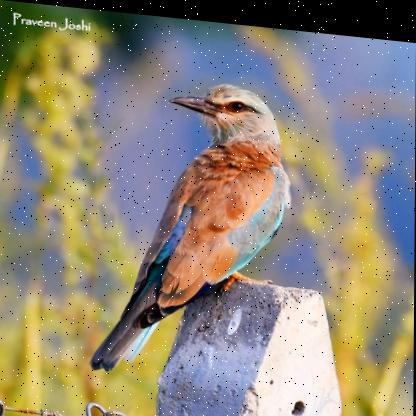Burung: (91, 69, 291, 381)
